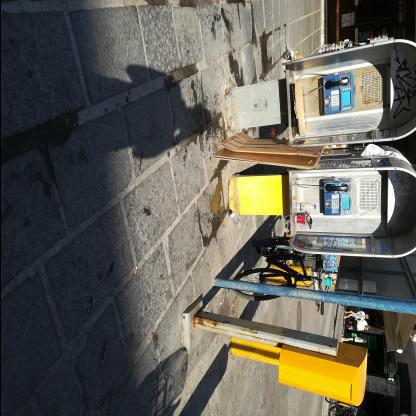karton: (219, 132, 321, 158)
plastik: (229, 211, 242, 231)
